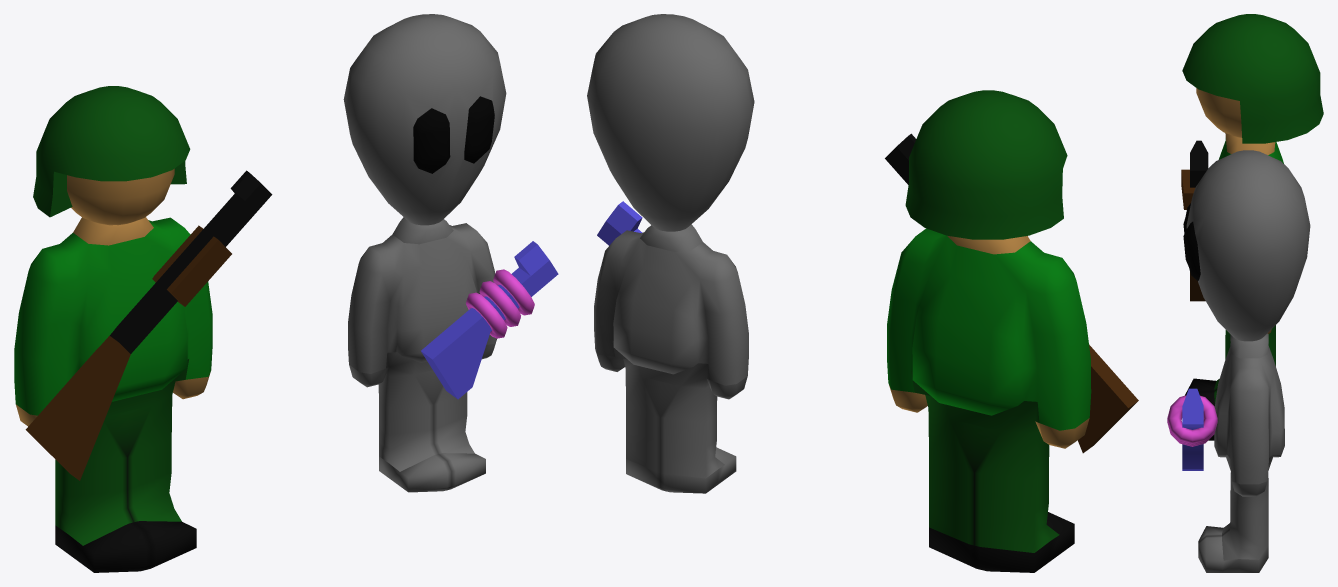
File: Units.FBX
3 renders of one model, left to right at view 1: azimuth 30°, elevation 25°; view 2: azimuth 150°, elevation 25°; view 3: azimuth 270°, elevation 25°, orthographic. The views are drawn at different scales.
Visible parts, largest first — view 1: Soldier, Alien; view 2: Soldier, Alien; view 3: Alien, Soldier.
Boxes of the visible parts, x1,y1,x2,y2 form: Soldier: (14, 86, 272, 572); Alien: (343, 14, 558, 492); Soldier: (885, 90, 1138, 572); Alien: (587, 14, 754, 493); Alien: (1167, 150, 1310, 572); Soldier: (1181, 14, 1323, 440).
Bounding box in the file's own units: 2.53 × 2.12 × 0.7393.
